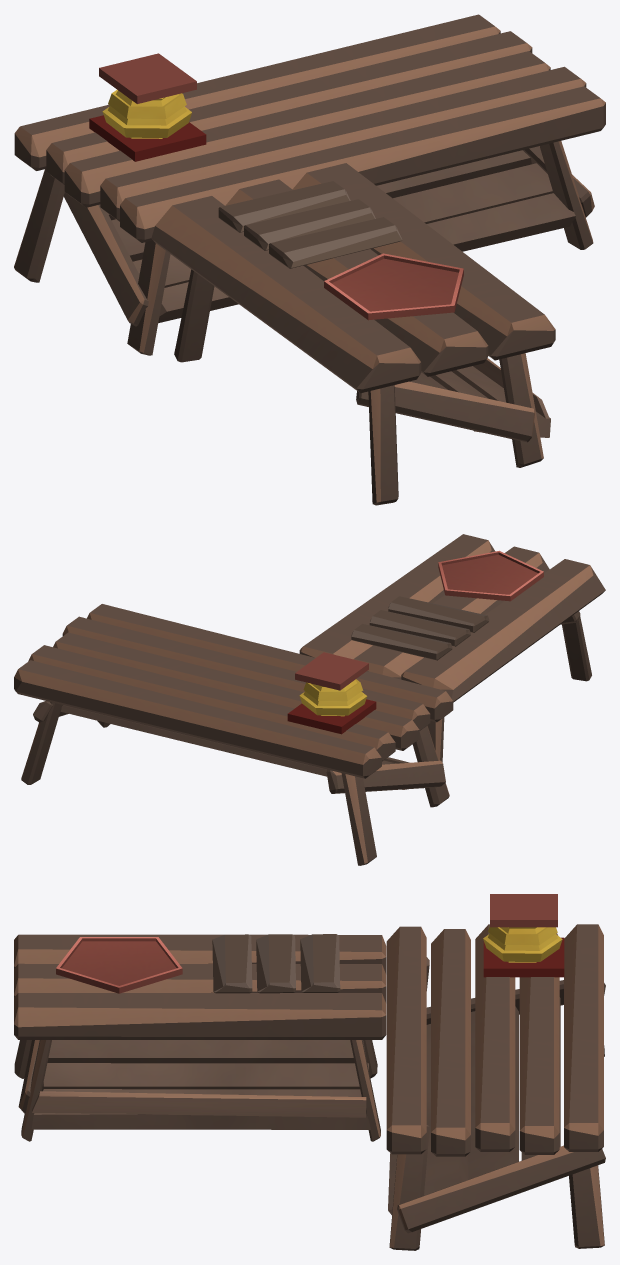
Rendered from shop_0lvl.fbx.
3 renders of one model, top to bottom at view 1: azimuth 30°, elevation 25°; view 2: azimuth 150°, elevation 25°; view 3: azimuth 270°, elevation 25°, orthographic. The views are drawn at different scales.
Parts seen in each view (by area): view 1: shop_0lvl; view 2: shop_0lvl; view 3: shop_0lvl.
Part boxes in pixels (x1,y1,x2,y2): shop_0lvl: [14, 14, 605, 505]; shop_0lvl: [14, 534, 605, 865]; shop_0lvl: [14, 894, 605, 1250].
Size of the model in its own units: 303 by 128 by 365.
